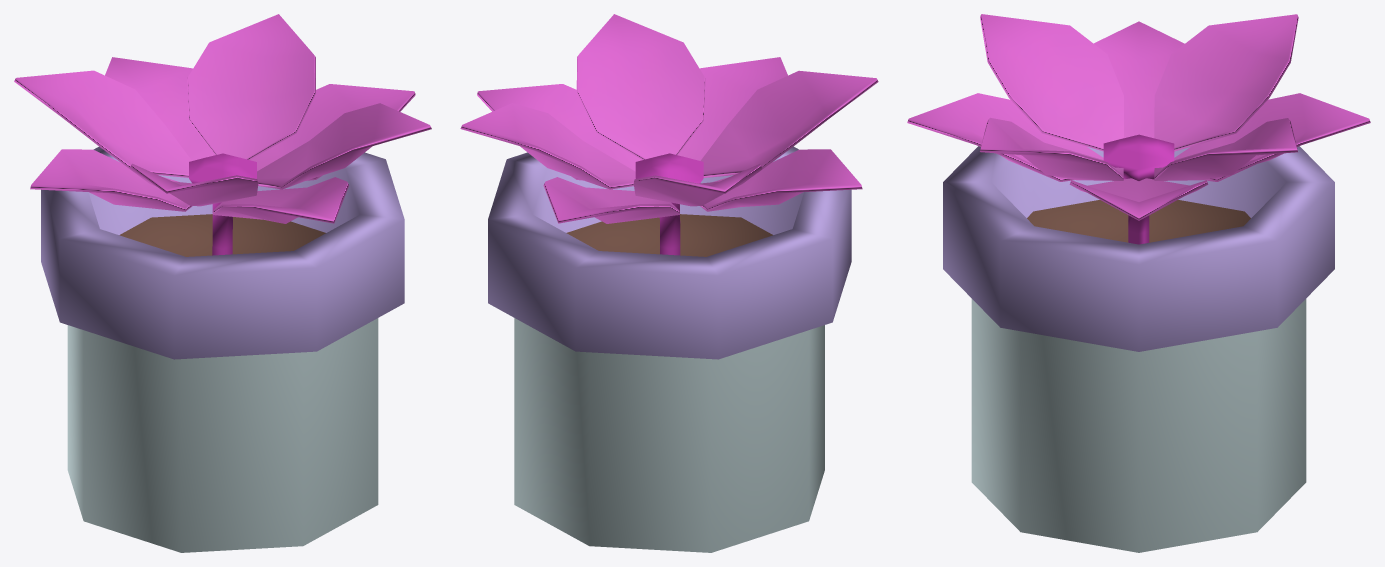
File: Plant4 lv1.fbx
3 renders of one model, left to right at view 1: azimuth 30°, elevation 25°; view 2: azimuth 150°, elevation 25°; view 3: azimuth 270°, elevation 25°, orthographic. The views are drawn at different scales.
Parts seen in each view (by area): view 1: Plant4_lv1; view 2: Plant4_lv1; view 3: Plant4_lv1.
Part boxes in pixels (<box>): Plant4_lv1: <box>14,14,431,552</box>; Plant4_lv1: <box>460,14,878,552</box>; Plant4_lv1: <box>907,14,1370,552</box>.
Bounding box in the file's own units: 68.69 × 65.64 × 68.69.
